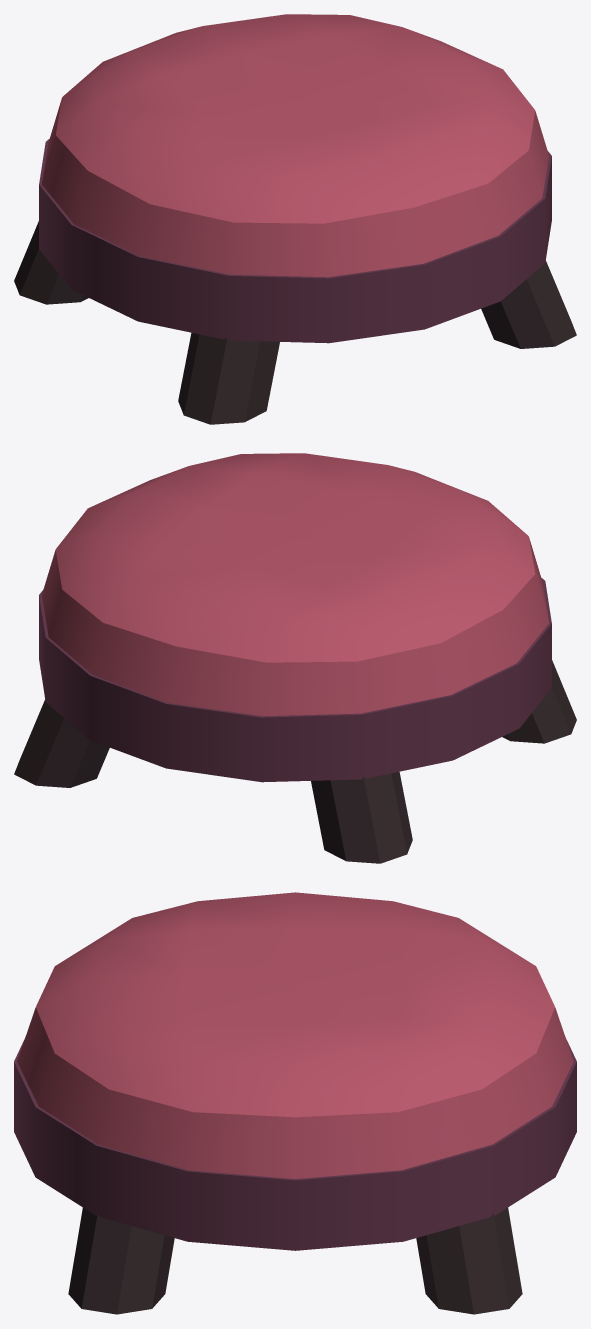
The model's file is Prop_Pouffes_07.fbx.
3 views of the same model, one above another, from view 1: azimuth 30°, elevation 25°; view 2: azimuth 150°, elevation 25°; view 3: azimuth 270°, elevation 25° (orthographic). The views are drawn at different scales.
Visible parts, largest first — view 1: Prop_Pouffes_07; view 2: Prop_Pouffes_07; view 3: Prop_Pouffes_07.
Boxes of the visible parts, <box> form: Prop_Pouffes_07: <box>14,14,576,424</box>; Prop_Pouffes_07: <box>14,453,576,863</box>; Prop_Pouffes_07: <box>14,892,576,1314</box>.
Bounding box in the file's own units: 78.03 × 36.18 × 78.03.
